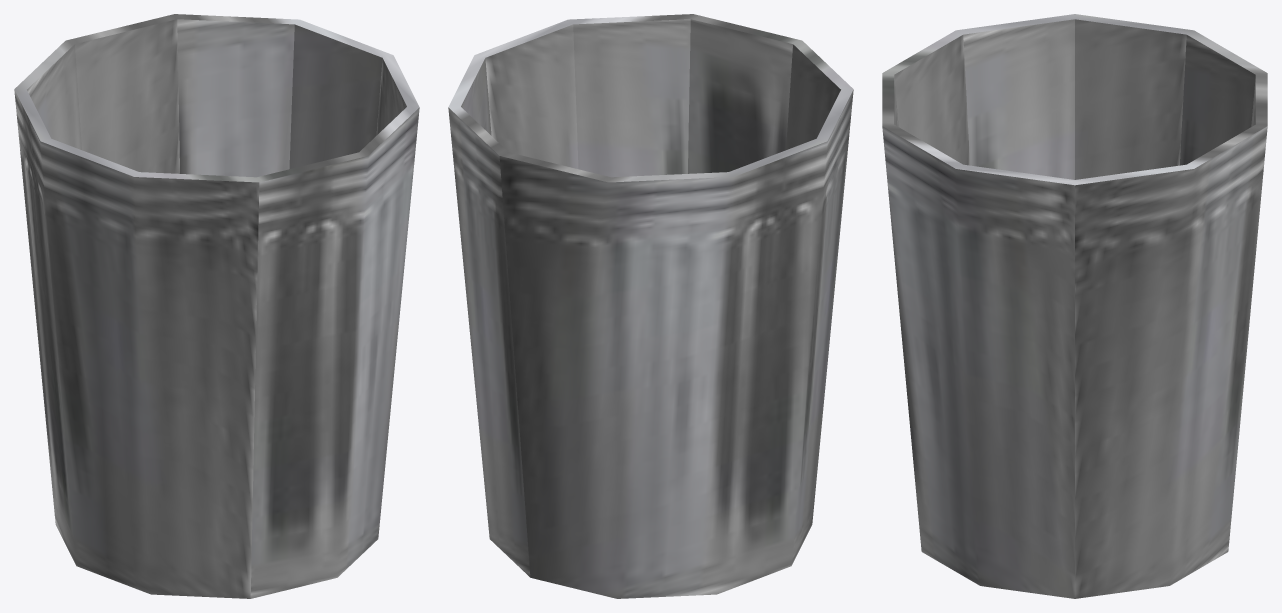
Rendered from trashcan.FBX.
The picture shows the model from 3 angles, left to right: view 1: azimuth 30°, elevation 25°; view 2: azimuth 150°, elevation 25°; view 3: azimuth 270°, elevation 25°; orthographic projection.
Visible parts, largest first — view 1: trashcan; view 2: trashcan; view 3: trashcan.
Boxes of the visible parts, bbox=[...] form: trashcan: bbox=[14, 14, 419, 598]; trashcan: bbox=[448, 14, 853, 598]; trashcan: bbox=[882, 14, 1267, 598].
Size of the model in its own units: 42.55 by 49.95 by 40.47.
1 material, 1 textured.
